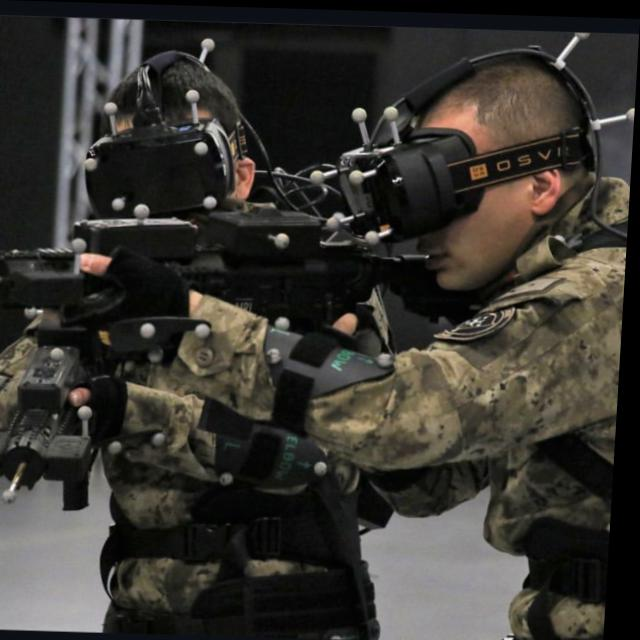poh_personel: (57, 34, 639, 640)
